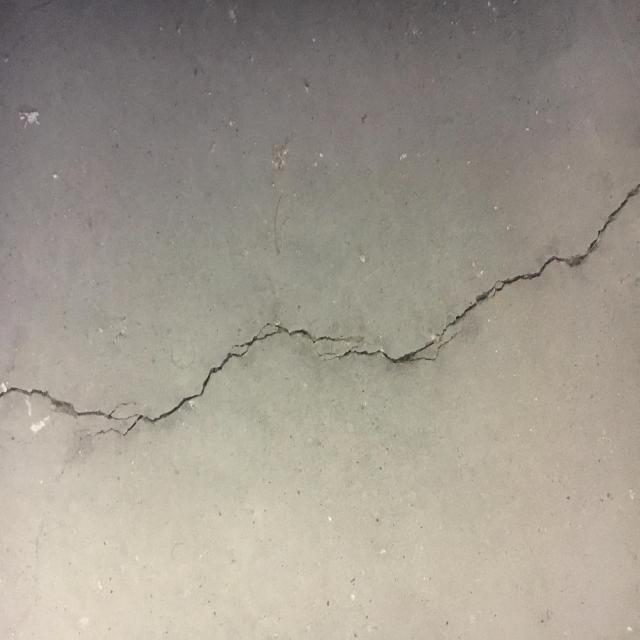SurfaceCrack: (0, 172, 639, 460)
